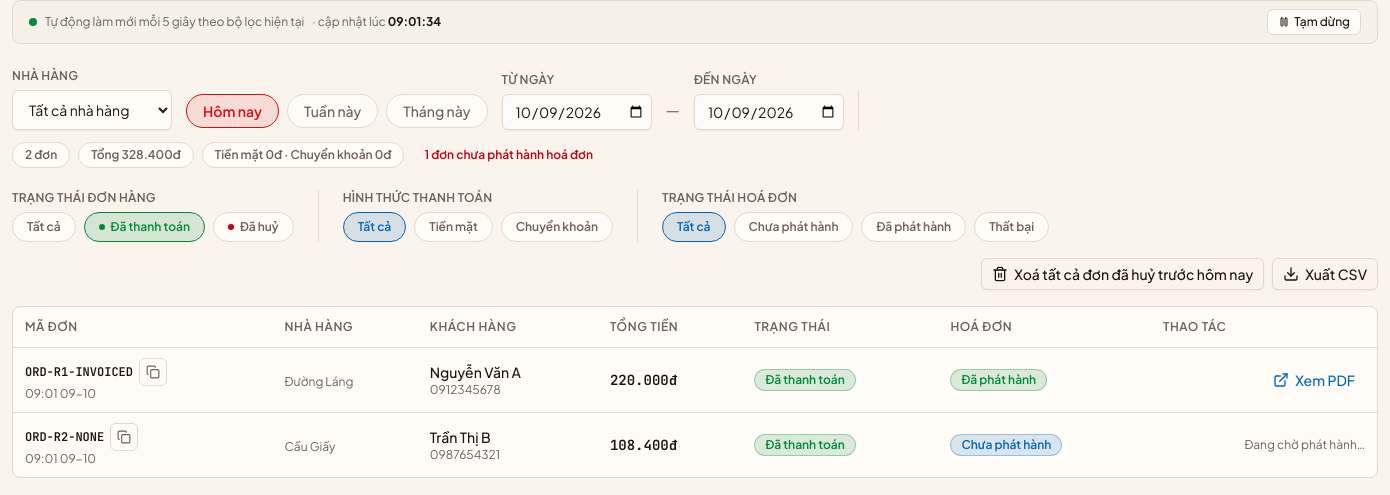
Test case: AccountingPage enterprise accounting › filters the table by invoice status and shows the 'chưa phát hành' summary count
This screenshot has width=1390, height=495.
Expected: the text with test id "accounting.not_invoiced_count" reads "1 đơn chưa phát hành hoá đơn", [412,143,605,167]
Click the button "Chưa phát hành" at [793, 227], box [734,212,853,242]
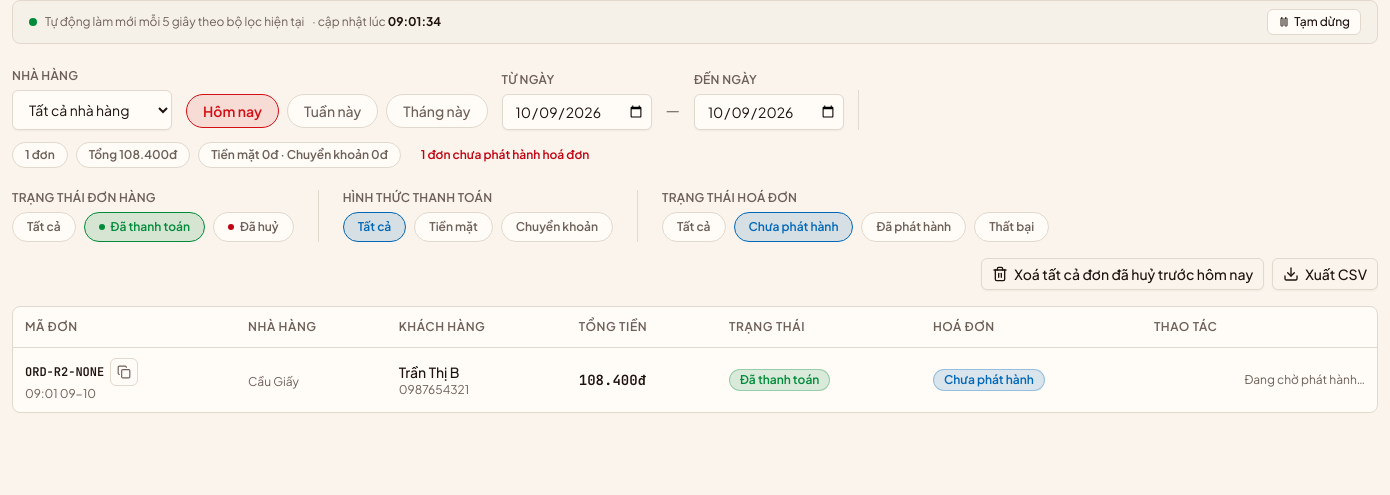
Expected: the text "ORD-R2-NONE" is shown, [25,364,104,380]
Expected: the text "ORD-R1-INVOICED" is gone
